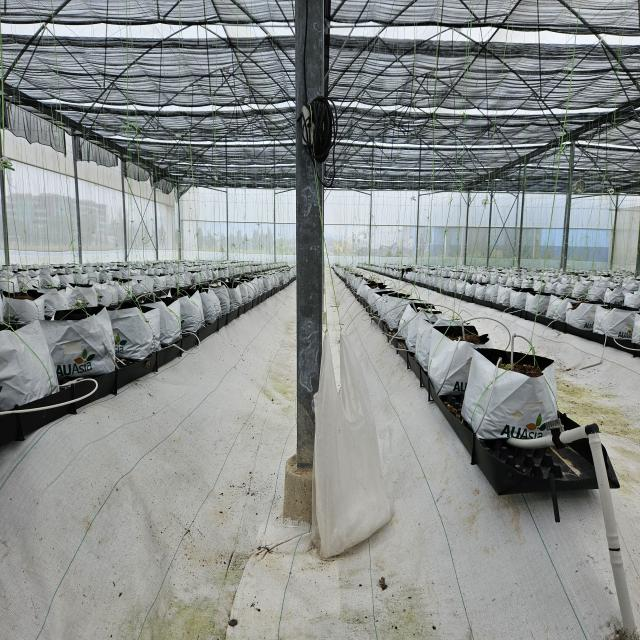Soilbag: (461, 348, 558, 441), (427, 326, 487, 393)
